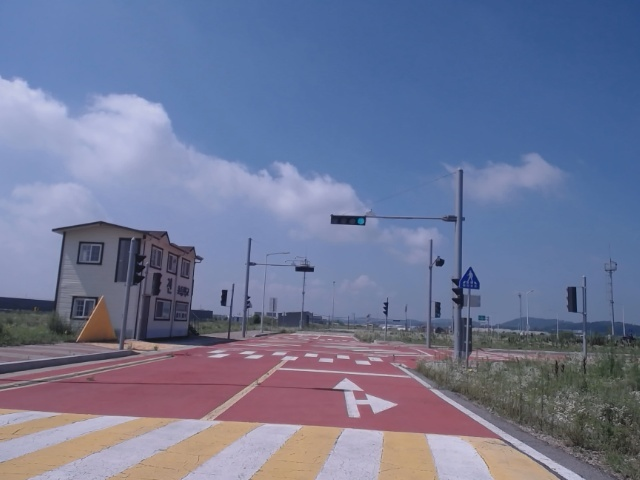straight_green_4: (331, 215, 366, 226)
